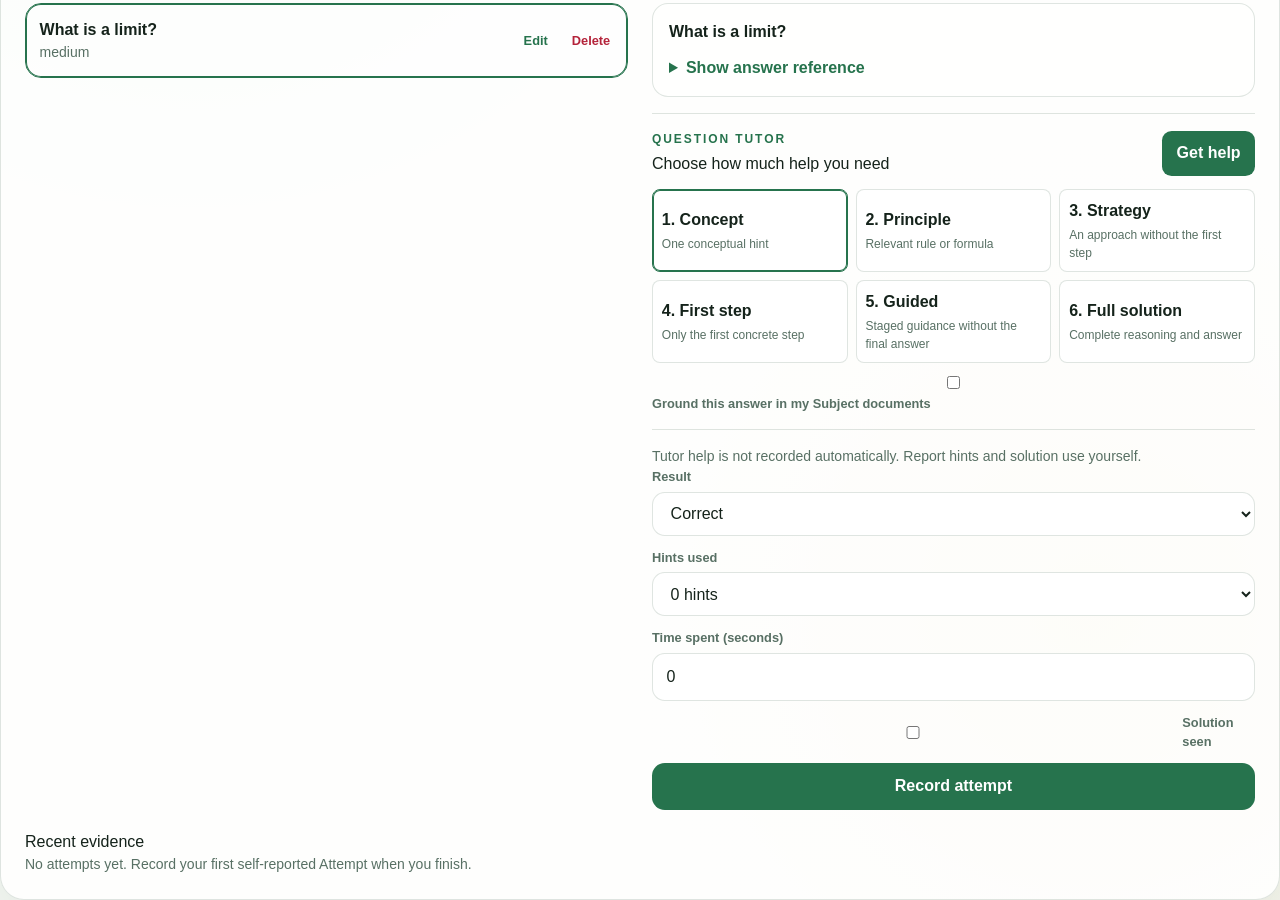
PracticeManager › does not refresh the planner or change Mastery when an Attempt fails
(page scrolled)
Expected: the heading "Show answer reference" is shown, top-left (686, 60), bottom-right (865, 76)
Click the button "Record attempt" at [954, 786], box top-left (652, 763), bottom-right (1255, 810)
(page scrolled)
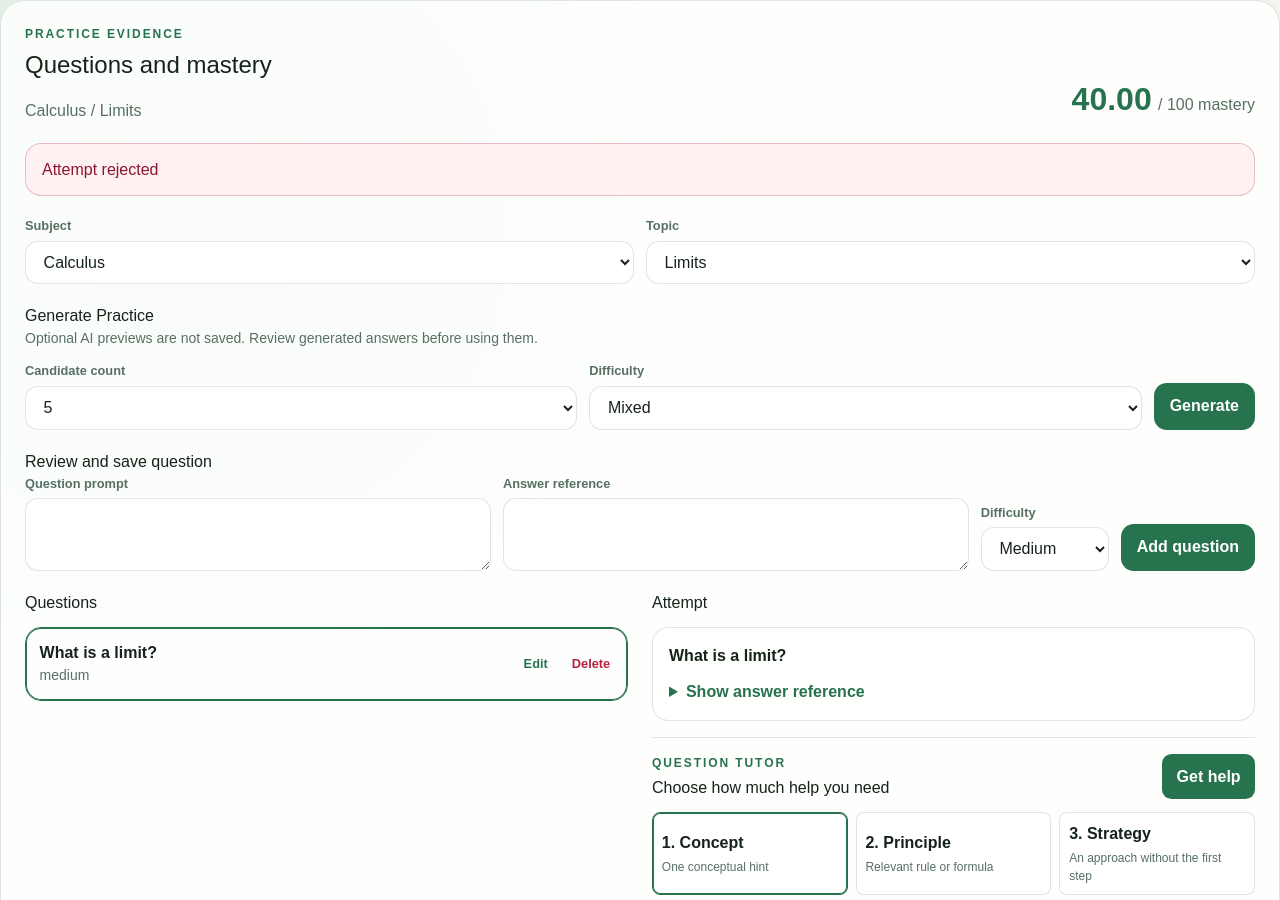
Expected: the element named "Current mastery" shows "40.00", top-left (1072, 81), bottom-right (1152, 117)
Now the message reads "Attempt rejected", box top-left (42, 161), bottom-right (158, 178)
